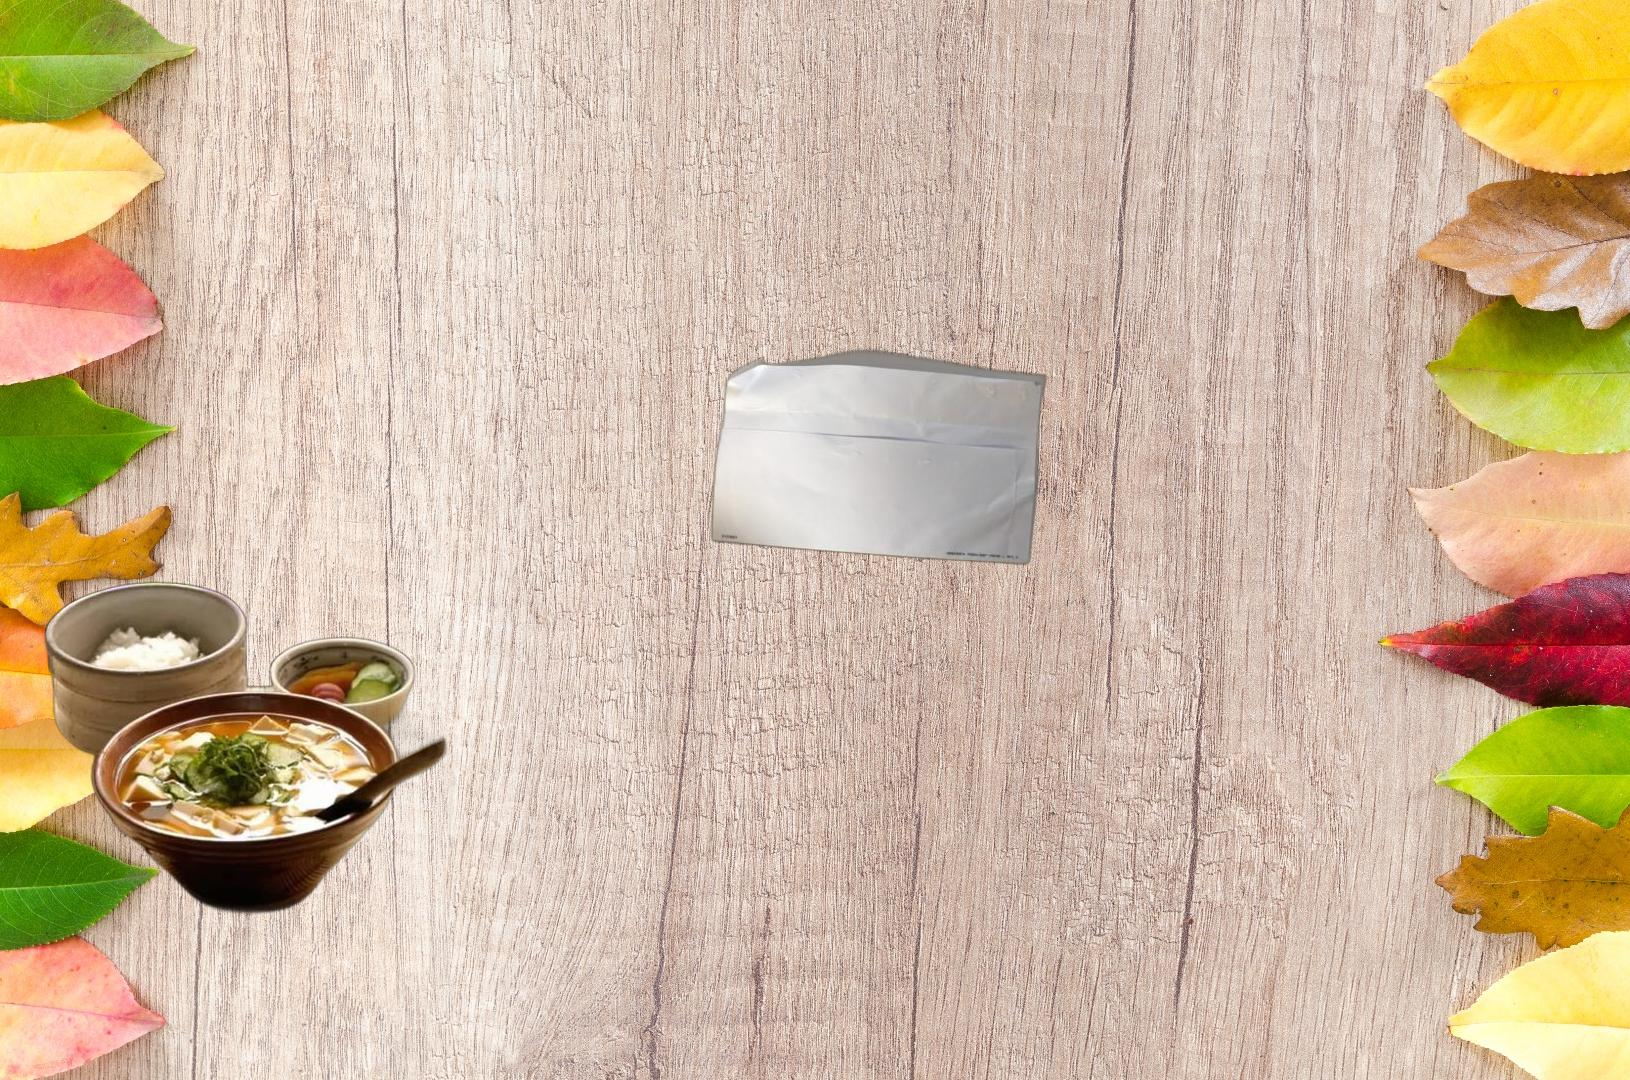biological: (40, 579, 498, 918)
paper: (706, 347, 1051, 568)
